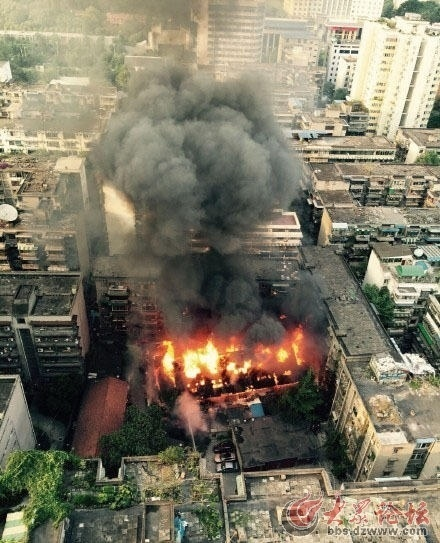fire: (158, 323, 305, 380)
